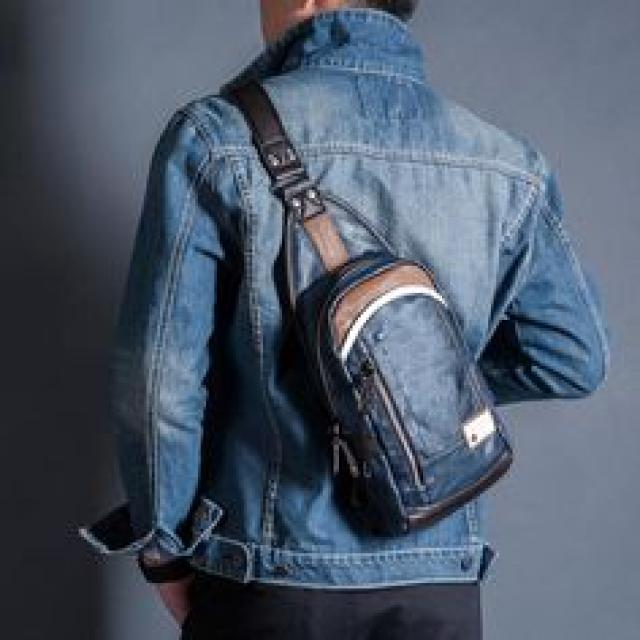Handbag: (292, 244, 530, 534)
